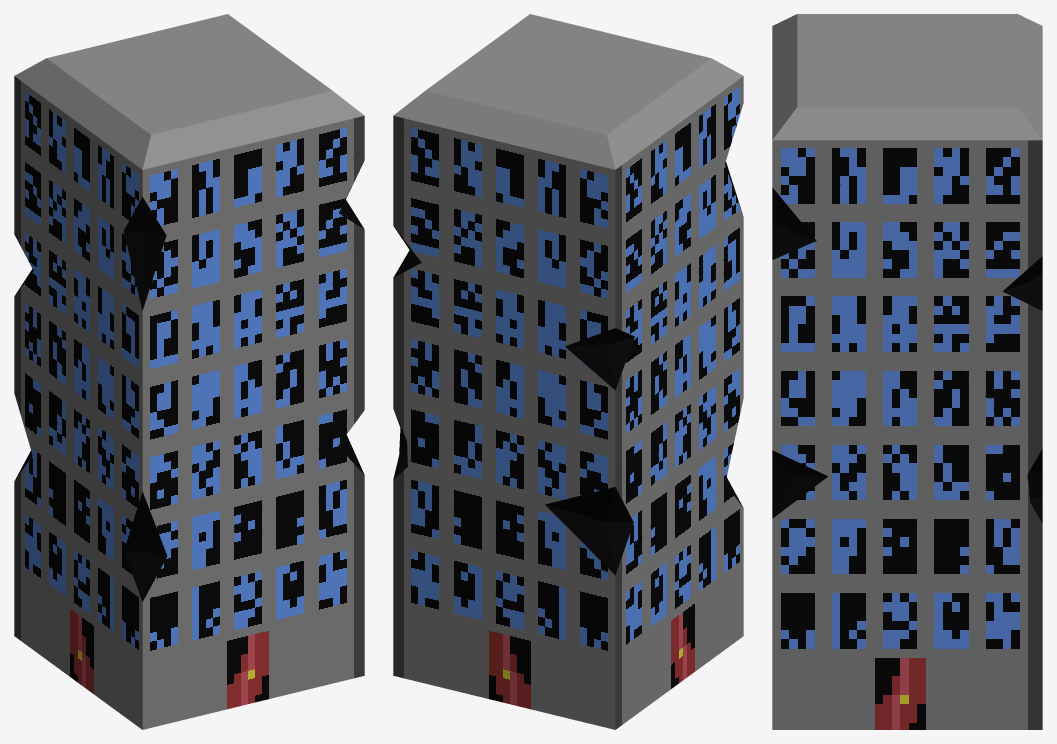
File: Building.fbx
3 renders of one model, left to right at view 1: azimuth 30°, elevation 25°; view 2: azimuth 150°, elevation 25°; view 3: azimuth 270°, elevation 25°, orthographic. The views are drawn at different scales.
Visible parts, largest first — view 1: Cube.004; view 2: Cube.004; view 3: Cube.004.
Part boxes in pixels (x1,y1,x2,y2): Cube.004: (14, 14, 364, 729); Cube.004: (393, 14, 743, 729); Cube.004: (772, 14, 1042, 729).
Bounding box in the file's own units: 100 × 250 × 100.
